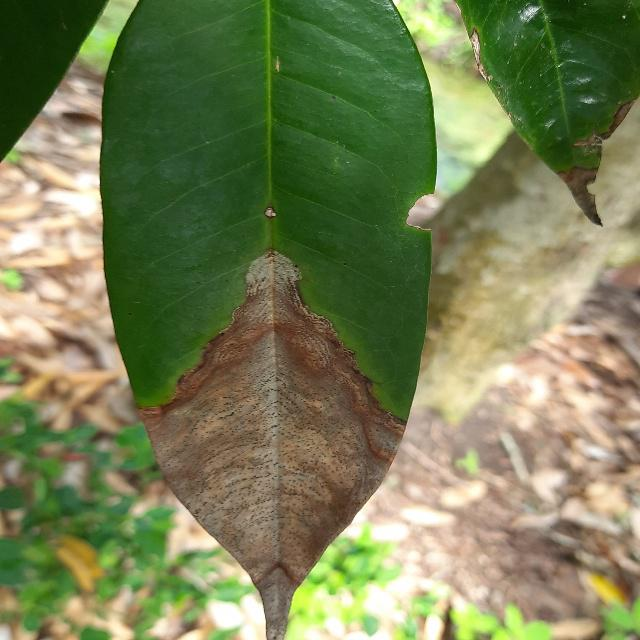Leaf Blight: (91, 0, 446, 639)
